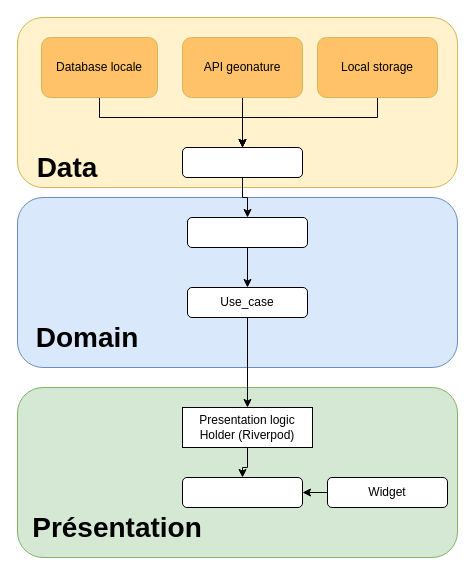
Some shapes in this 475 by 575 pixel diagram are drawn without their labels. The centre of each missing label's shape, as x and y in pixels:
"Repository" belongs at (247,232).
"Repository_impl" belongs at (242,162).
"Screen" belongs at (242,492).
